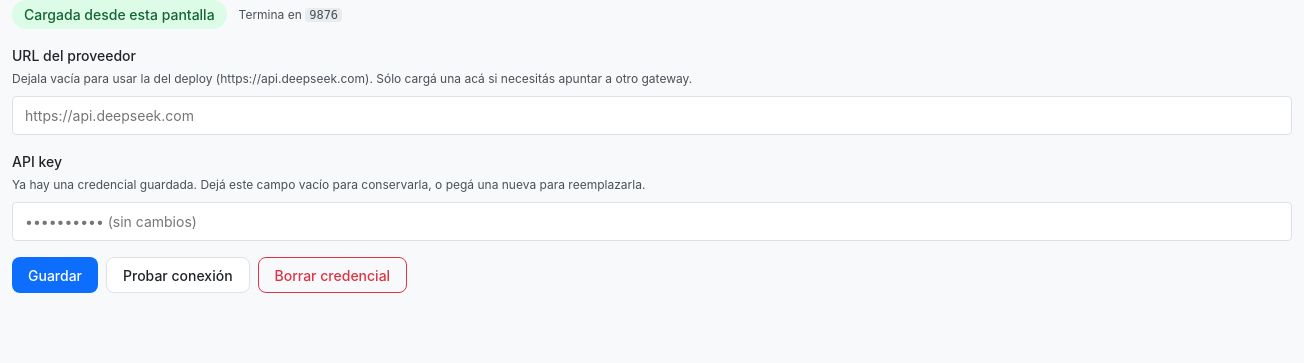
AssistantProviderCard — borrar la credencial también invalida lo mostrado › editar la key baja el cartel de "guardado" del save anterior
Click the button "Guardar" at x=55, y=275, box 12,257 -> 98,293
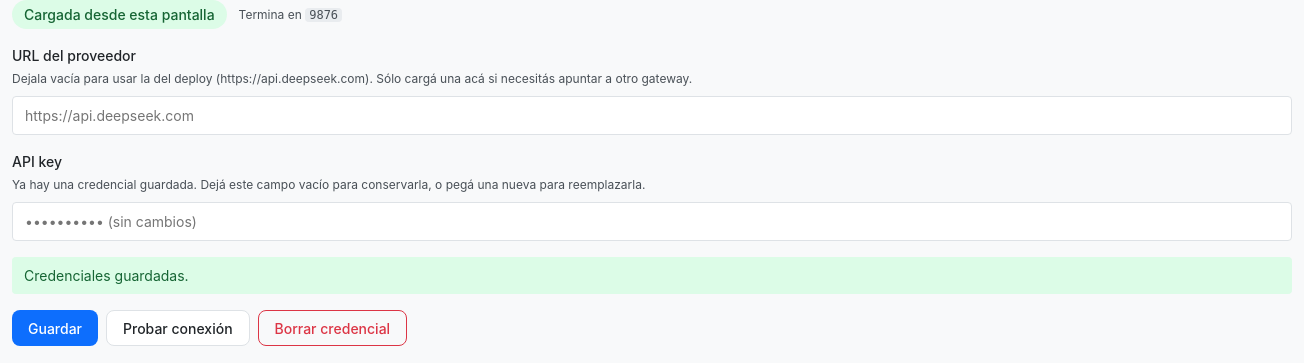
Expected: the text "Credenciales guardadas." is shown, 12,257 -> 1292,294
// Con una key nueva a medio escribir, "Credenciales guardadas" afirma algo que ya no aplica.
Type "sk-otra" into the password field labelled "API key" at x=652, y=222, box 12,202 -> 1292,241
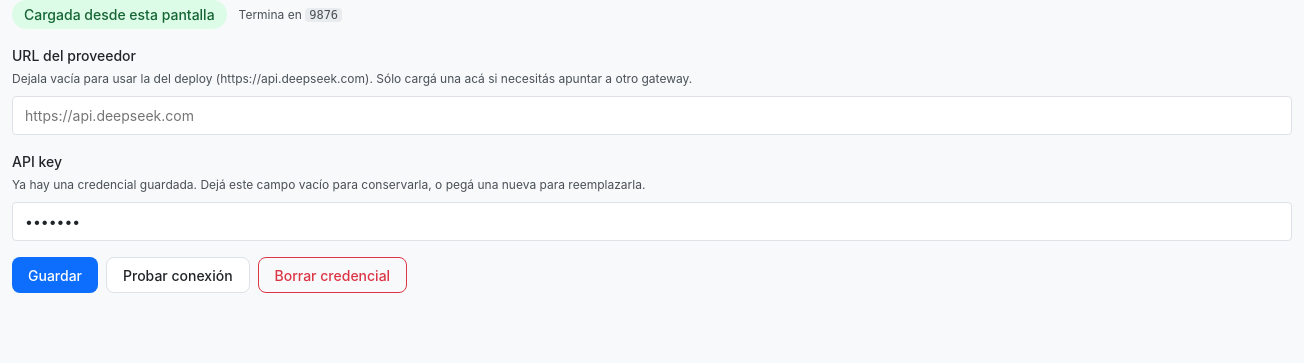
Expected: the text "Credenciales guardadas." is gone
